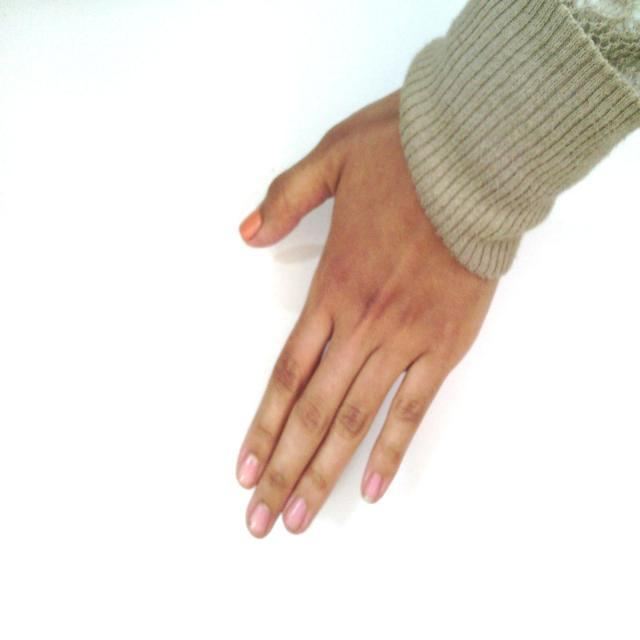Fingernail: (285, 498, 308, 531), (250, 503, 271, 536), (239, 456, 259, 486), (240, 211, 261, 239), (363, 473, 381, 501)
